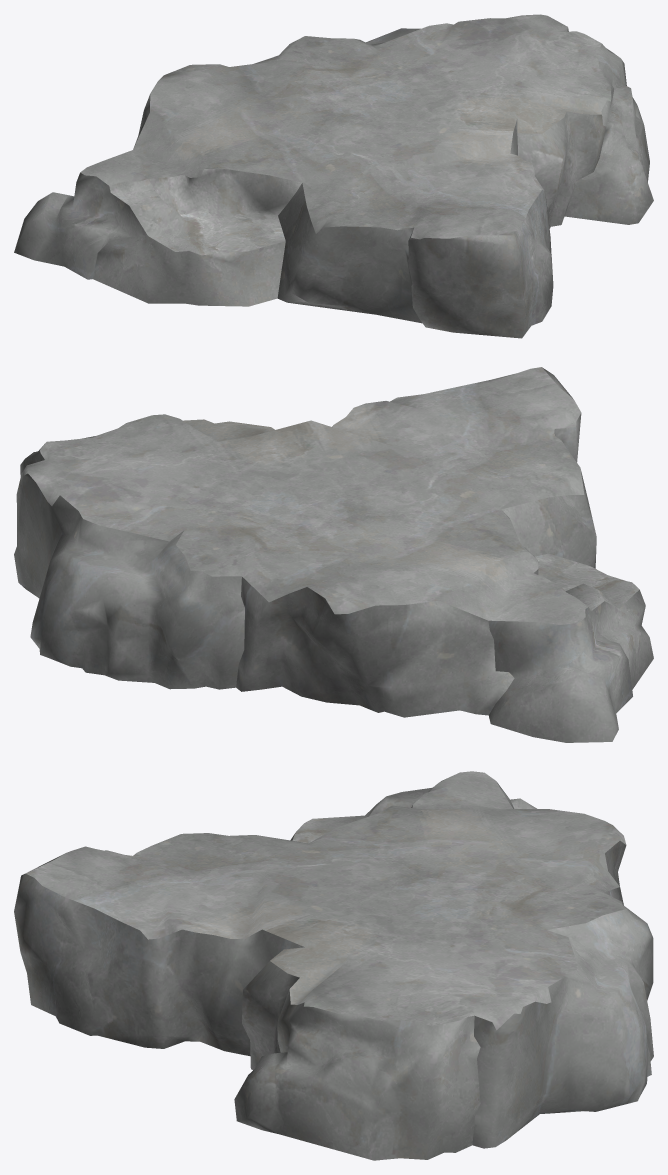
Rendered from SM_Com_Roc_28AS.fbx.
The picture shows the model from 3 angles, top to bottom: view 1: azimuth 30°, elevation 25°; view 2: azimuth 150°, elevation 25°; view 3: azimuth 270°, elevation 25°; orthographic projection. The views are drawn at different scales.
Visible parts, largest first — view 1: SM_Com_Roc_28AS.mo; view 2: SM_Com_Roc_28AS.mo; view 3: SM_Com_Roc_28AS.mo.
Part boxes in pixels (x1,y1,x2,y2): SM_Com_Roc_28AS.mo: (14,14,653,338); SM_Com_Roc_28AS.mo: (14,367,653,742); SM_Com_Roc_28AS.mo: (14,771,653,1160).
Bounding box in the file's own units: 12.21 × 2.29 × 10.26.
